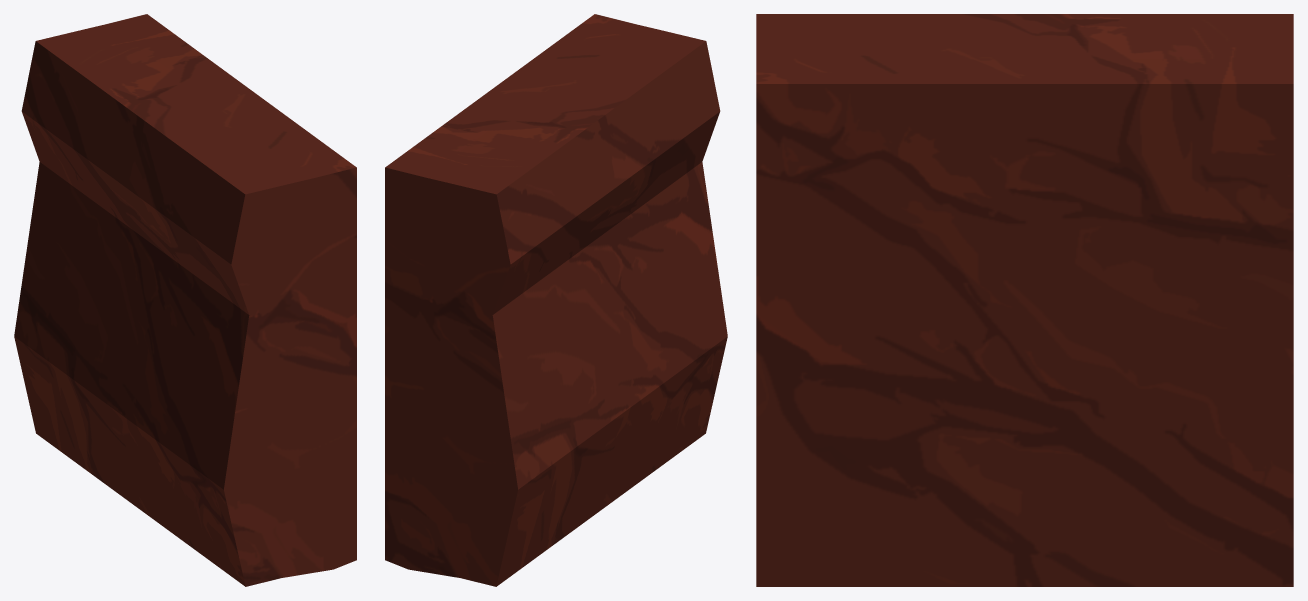
The model's file is intro_prop(wall_mountain_R)_01.FBX.
The picture shows the model from 3 angles, left to right: view 1: azimuth 30°, elevation 25°; view 2: azimuth 150°, elevation 25°; view 3: azimuth 270°, elevation 25°; orthographic projection. The views are drawn at different scales.
Parts seen in each view (by area): view 1: wall_mountain_R001; view 2: wall_mountain_R001; view 3: wall_mountain_R001.
Boxes of the visible parts, bbox=[...] form: wall_mountain_R001: bbox=[14, 14, 356, 586]; wall_mountain_R001: bbox=[385, 14, 727, 586]; wall_mountain_R001: bbox=[756, 14, 1293, 586].
Size of what is drawn, in the model's own units: 63.73 by 182 by 174.
